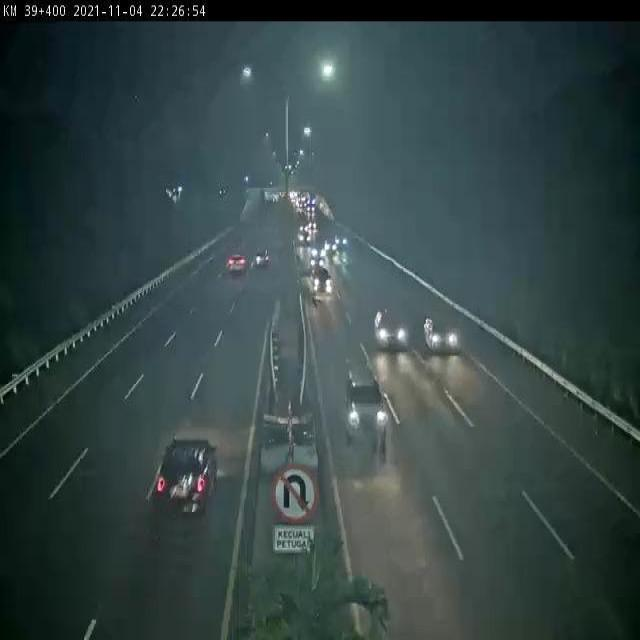car: (153, 432, 219, 519), (339, 363, 389, 447), (419, 308, 462, 364), (371, 303, 411, 356), (308, 264, 336, 300), (249, 246, 274, 274), (222, 251, 250, 275)
